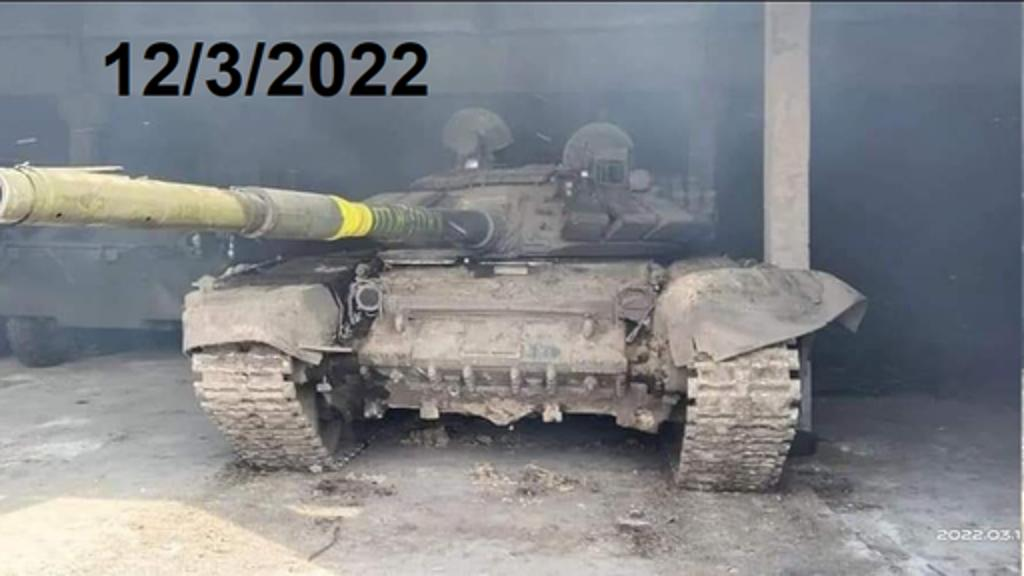TANK: (0, 106, 860, 498)
